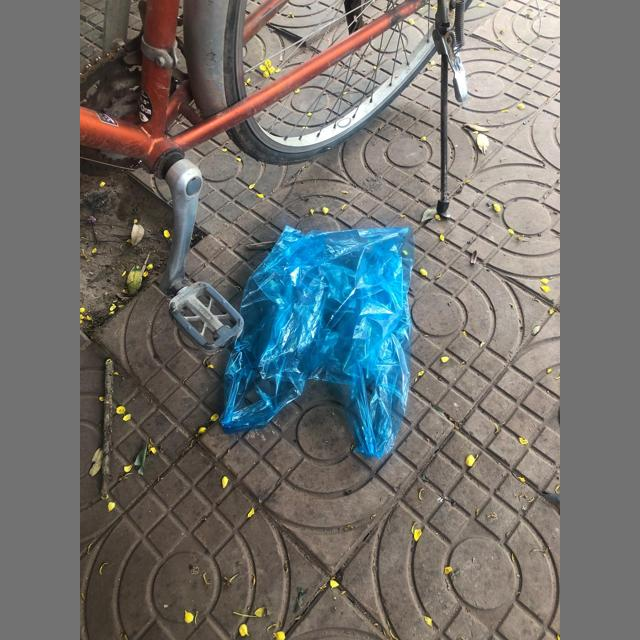litter: (219, 225, 416, 459)
